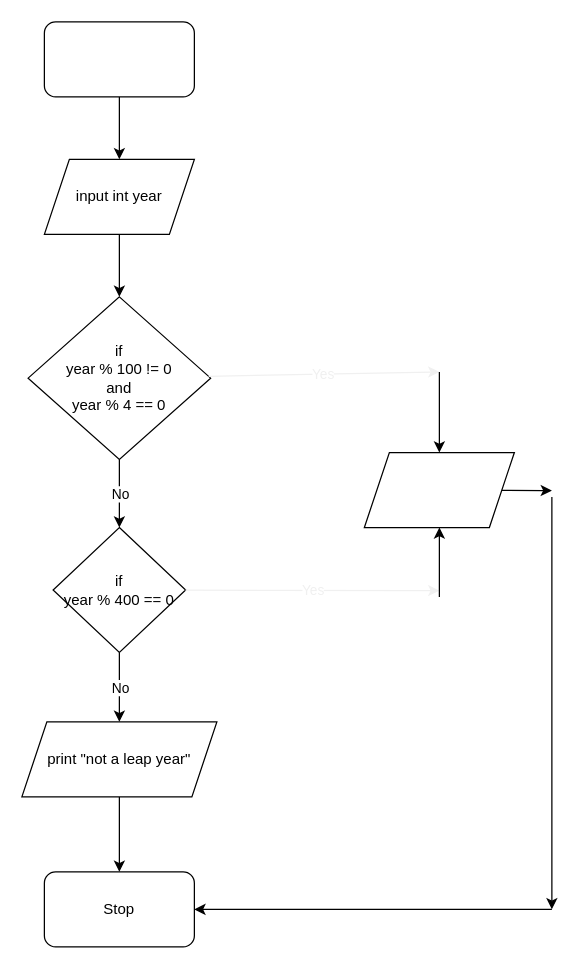
The diagram is 584 pixels wide and 969 high, and some of its shapes have lost their labels. Here are the shapes that lost their labels. From the top down, the box of each, then its label:
(43, 21, 194, 97): Start
(363, 451, 514, 528): print "leap year"
